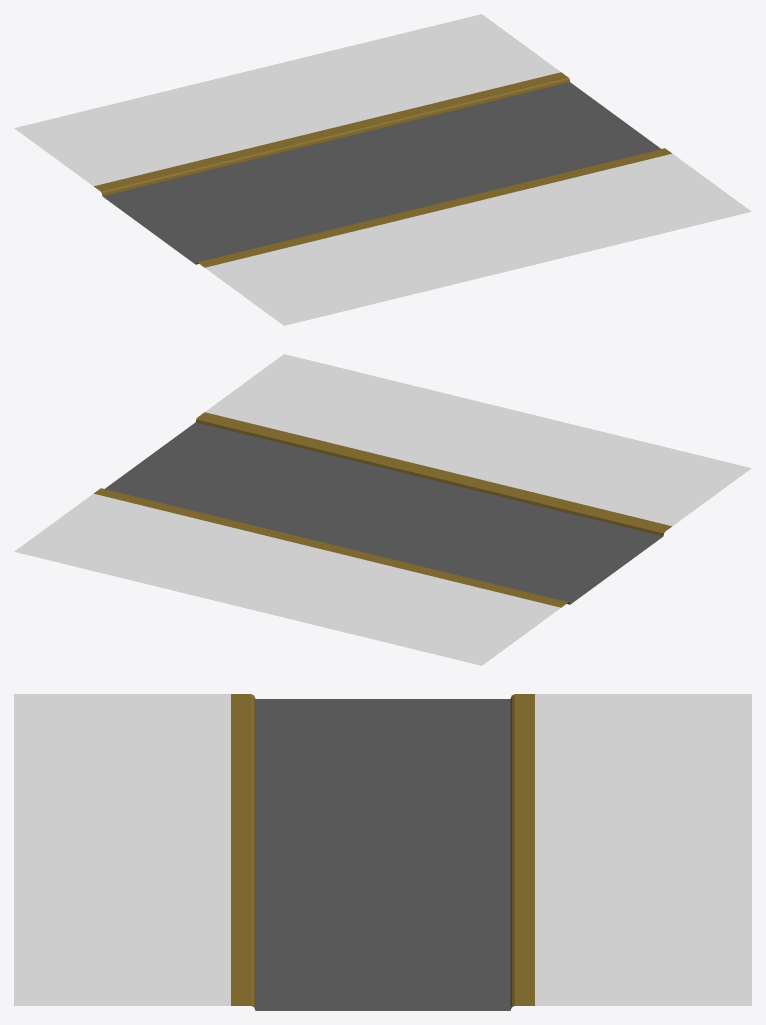
File: street_low_poly.fbx
3 renders of one model, top to bottom at view 1: azimuth 30°, elevation 25°; view 2: azimuth 150°, elevation 25°; view 3: azimuth 270°, elevation 25°, orthographic. The views are drawn at different scales.
Visible parts, largest first — view 1: Plane; view 2: Plane; view 3: Plane.
Boxes of the visible parts, box(x1,y1,x2,y2) form: Plane: box(14, 14, 751, 325); Plane: box(14, 354, 751, 665); Plane: box(14, 694, 751, 1010).
Size of the model in its own units: 2000 by 14.31 by 2000.
